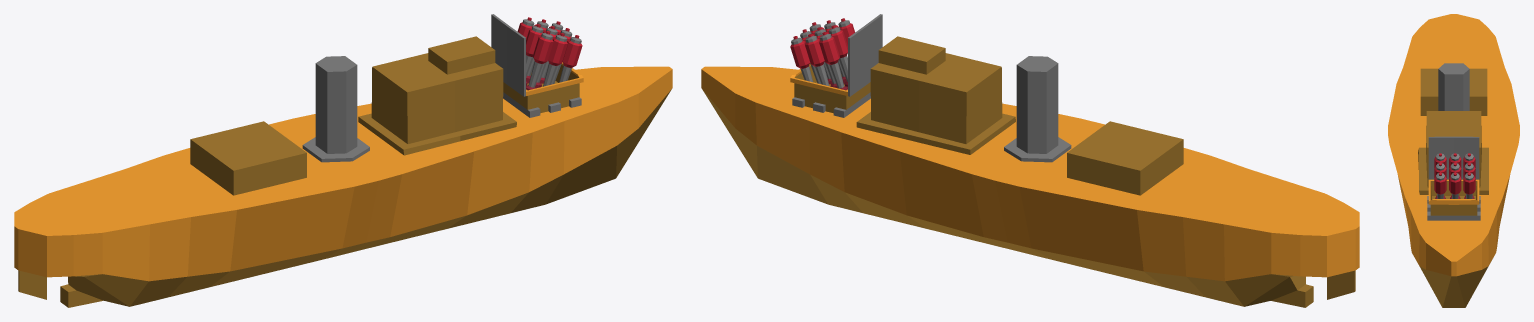
The model's file is Ship_HMCS_Sackville_Hedgehog.obj.
The picture shows the model from 3 angles, left to right: view 1: azimuth 30°, elevation 25°; view 2: azimuth 150°, elevation 25°; view 3: azimuth 270°, elevation 25°; orthographic projection. The views are drawn at different scales.
Parts seen in each view (by area): view 1: HMCS-Sackville; view 2: HMCS-Sackville; view 3: HMCS-Sackville.
Boxes of the visible parts, <box> form: HMCS-Sackville: <box>14,14,672,307</box>; HMCS-Sackville: <box>701,14,1359,307</box>; HMCS-Sackville: <box>1388,14,1519,307</box>.
Size of the model in its own units: 4.73 by 1.26 by 1.07.
2 materials, 2 textured.
